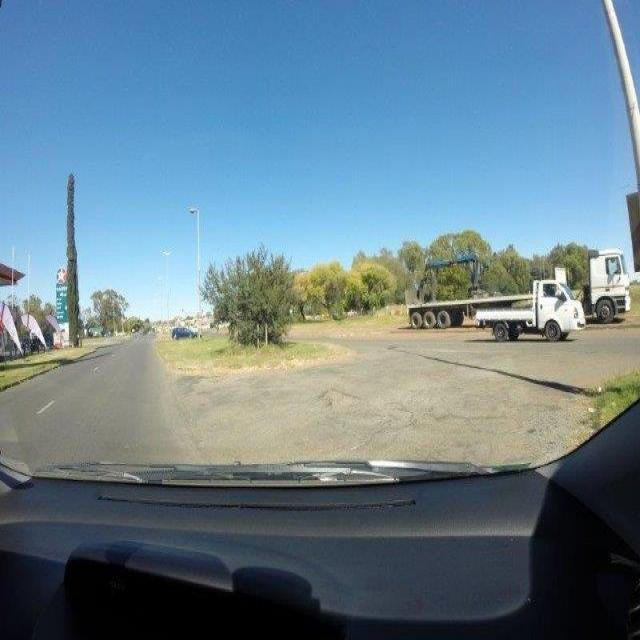jalan retak: (429, 402, 506, 434), (414, 432, 501, 459), (348, 423, 389, 452), (392, 394, 420, 430)
lubang: (311, 387, 358, 408)
